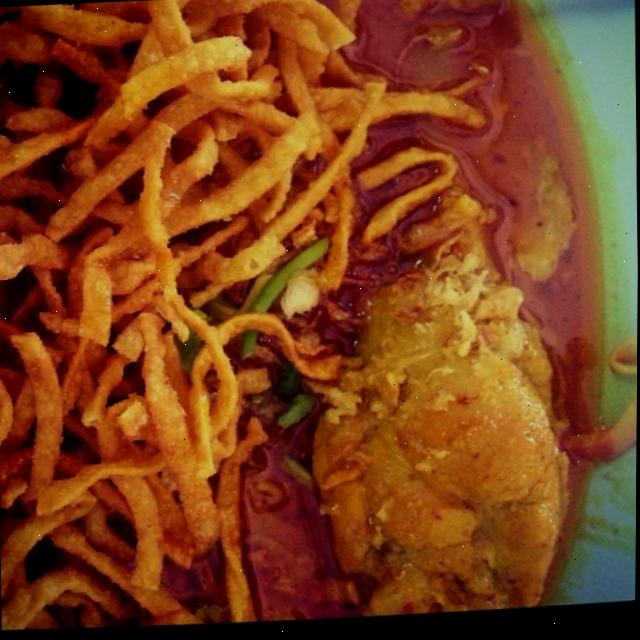面条主食: (0, 0, 627, 607)
